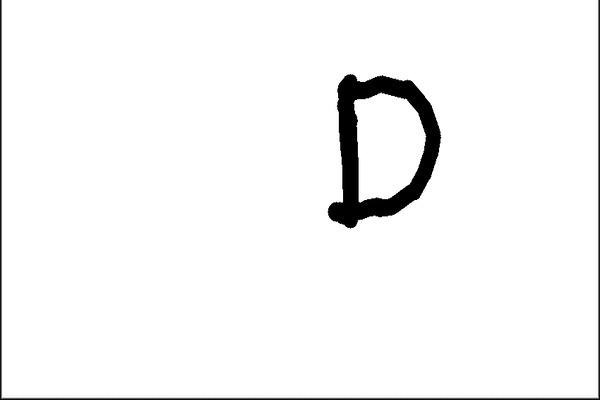D: (323, 67, 446, 236)
